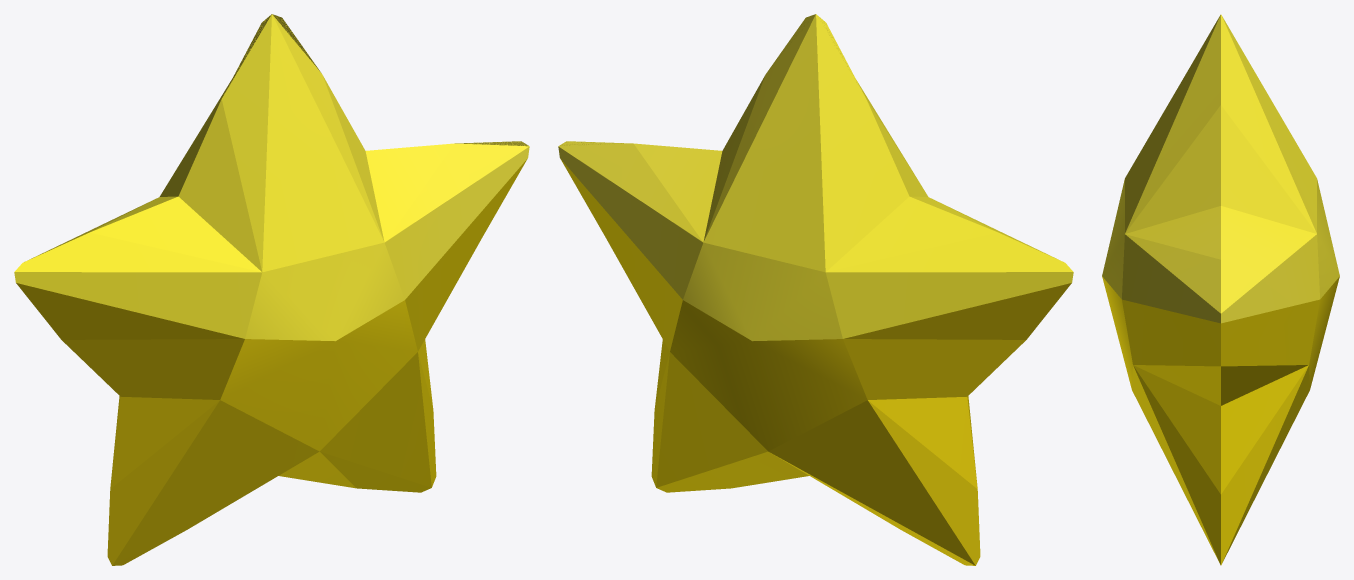
Rendered from item_star_001.fbx.
The picture shows the model from 3 angles, left to right: view 1: azimuth 30°, elevation 25°; view 2: azimuth 150°, elevation 25°; view 3: azimuth 270°, elevation 25°; orthographic projection. The views are drawn at different scales.
Visible parts, largest first — view 1: item_star_001; view 2: item_star_001; view 3: item_star_001.
Boxes of the visible parts, bbox=[...] form: item_star_001: bbox=[14, 14, 529, 565]; item_star_001: bbox=[558, 14, 1073, 565]; item_star_001: bbox=[1102, 14, 1339, 565].
Size of the model in its own units: 99.66 by 95.16 by 42.66.
